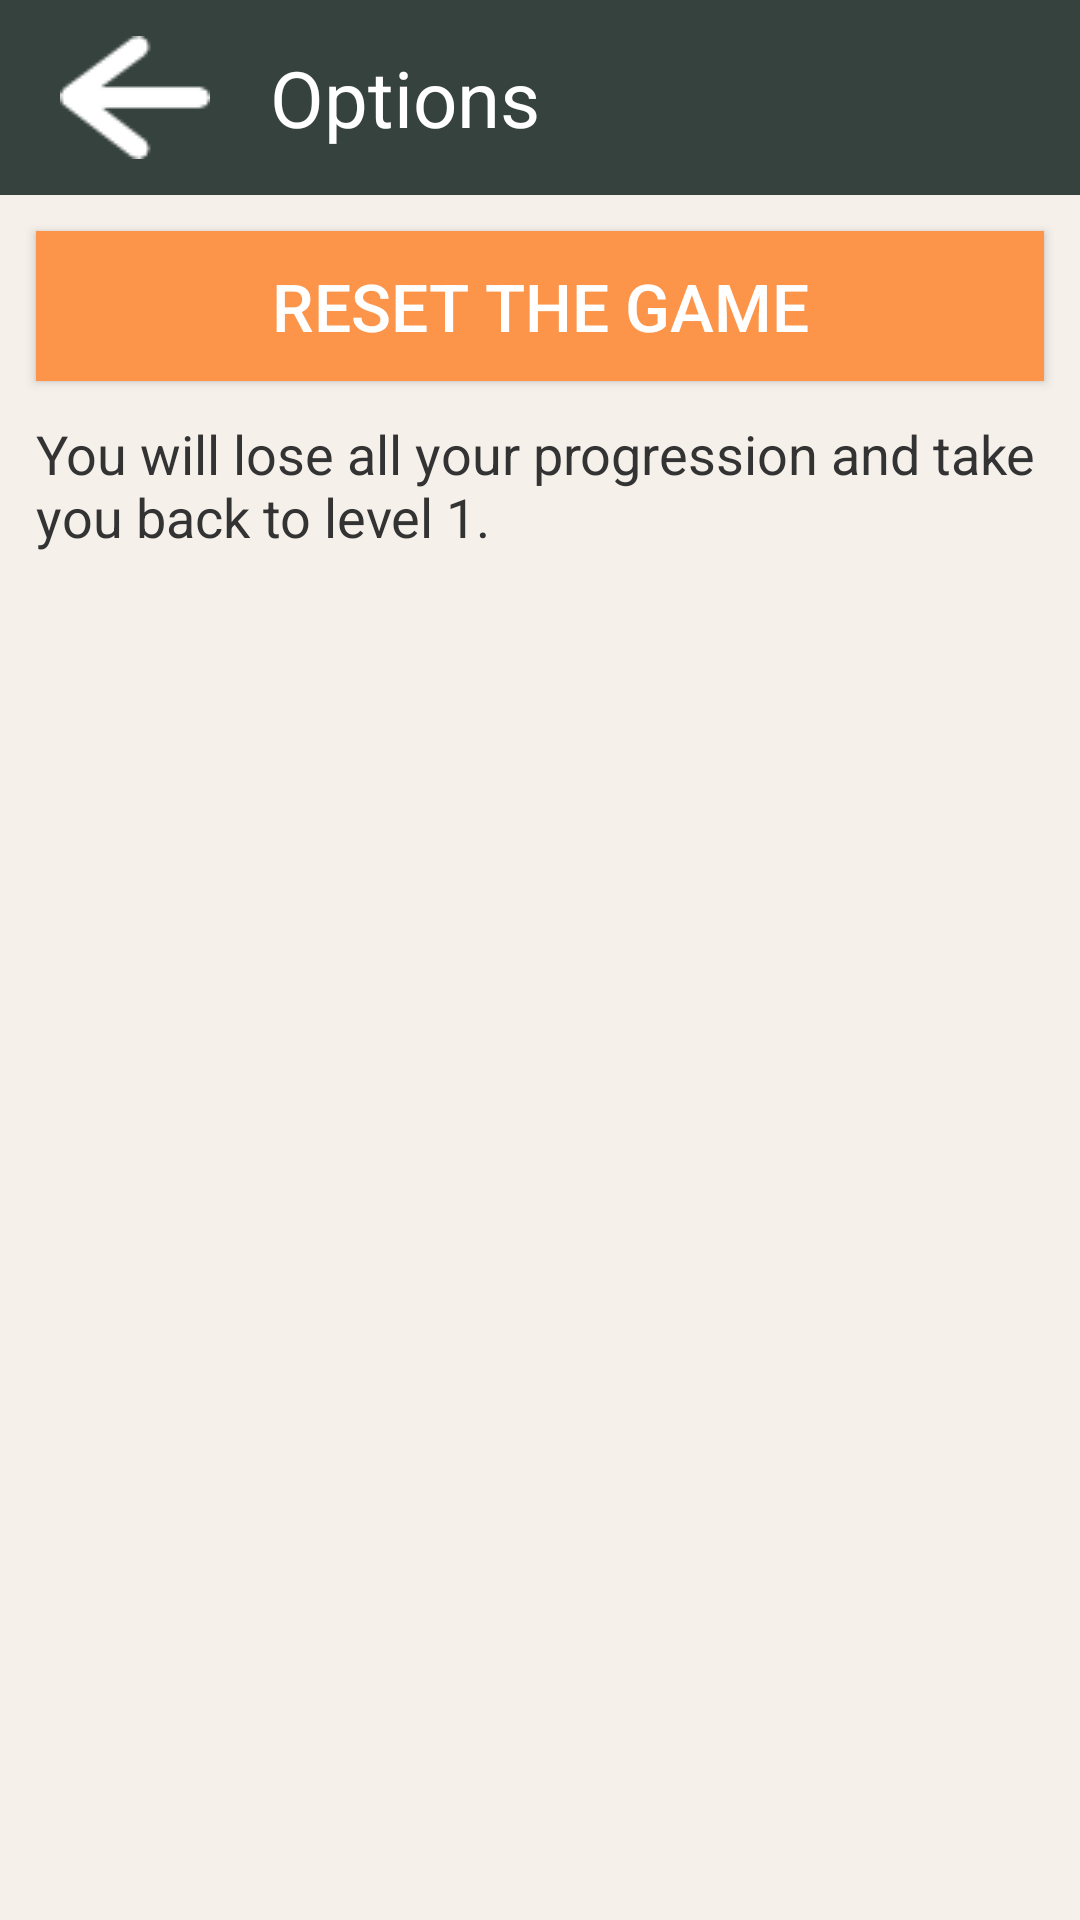

Point at icon controls on the screen. Image size 1080*1920, points as [x,y].
back states: [135,97]
